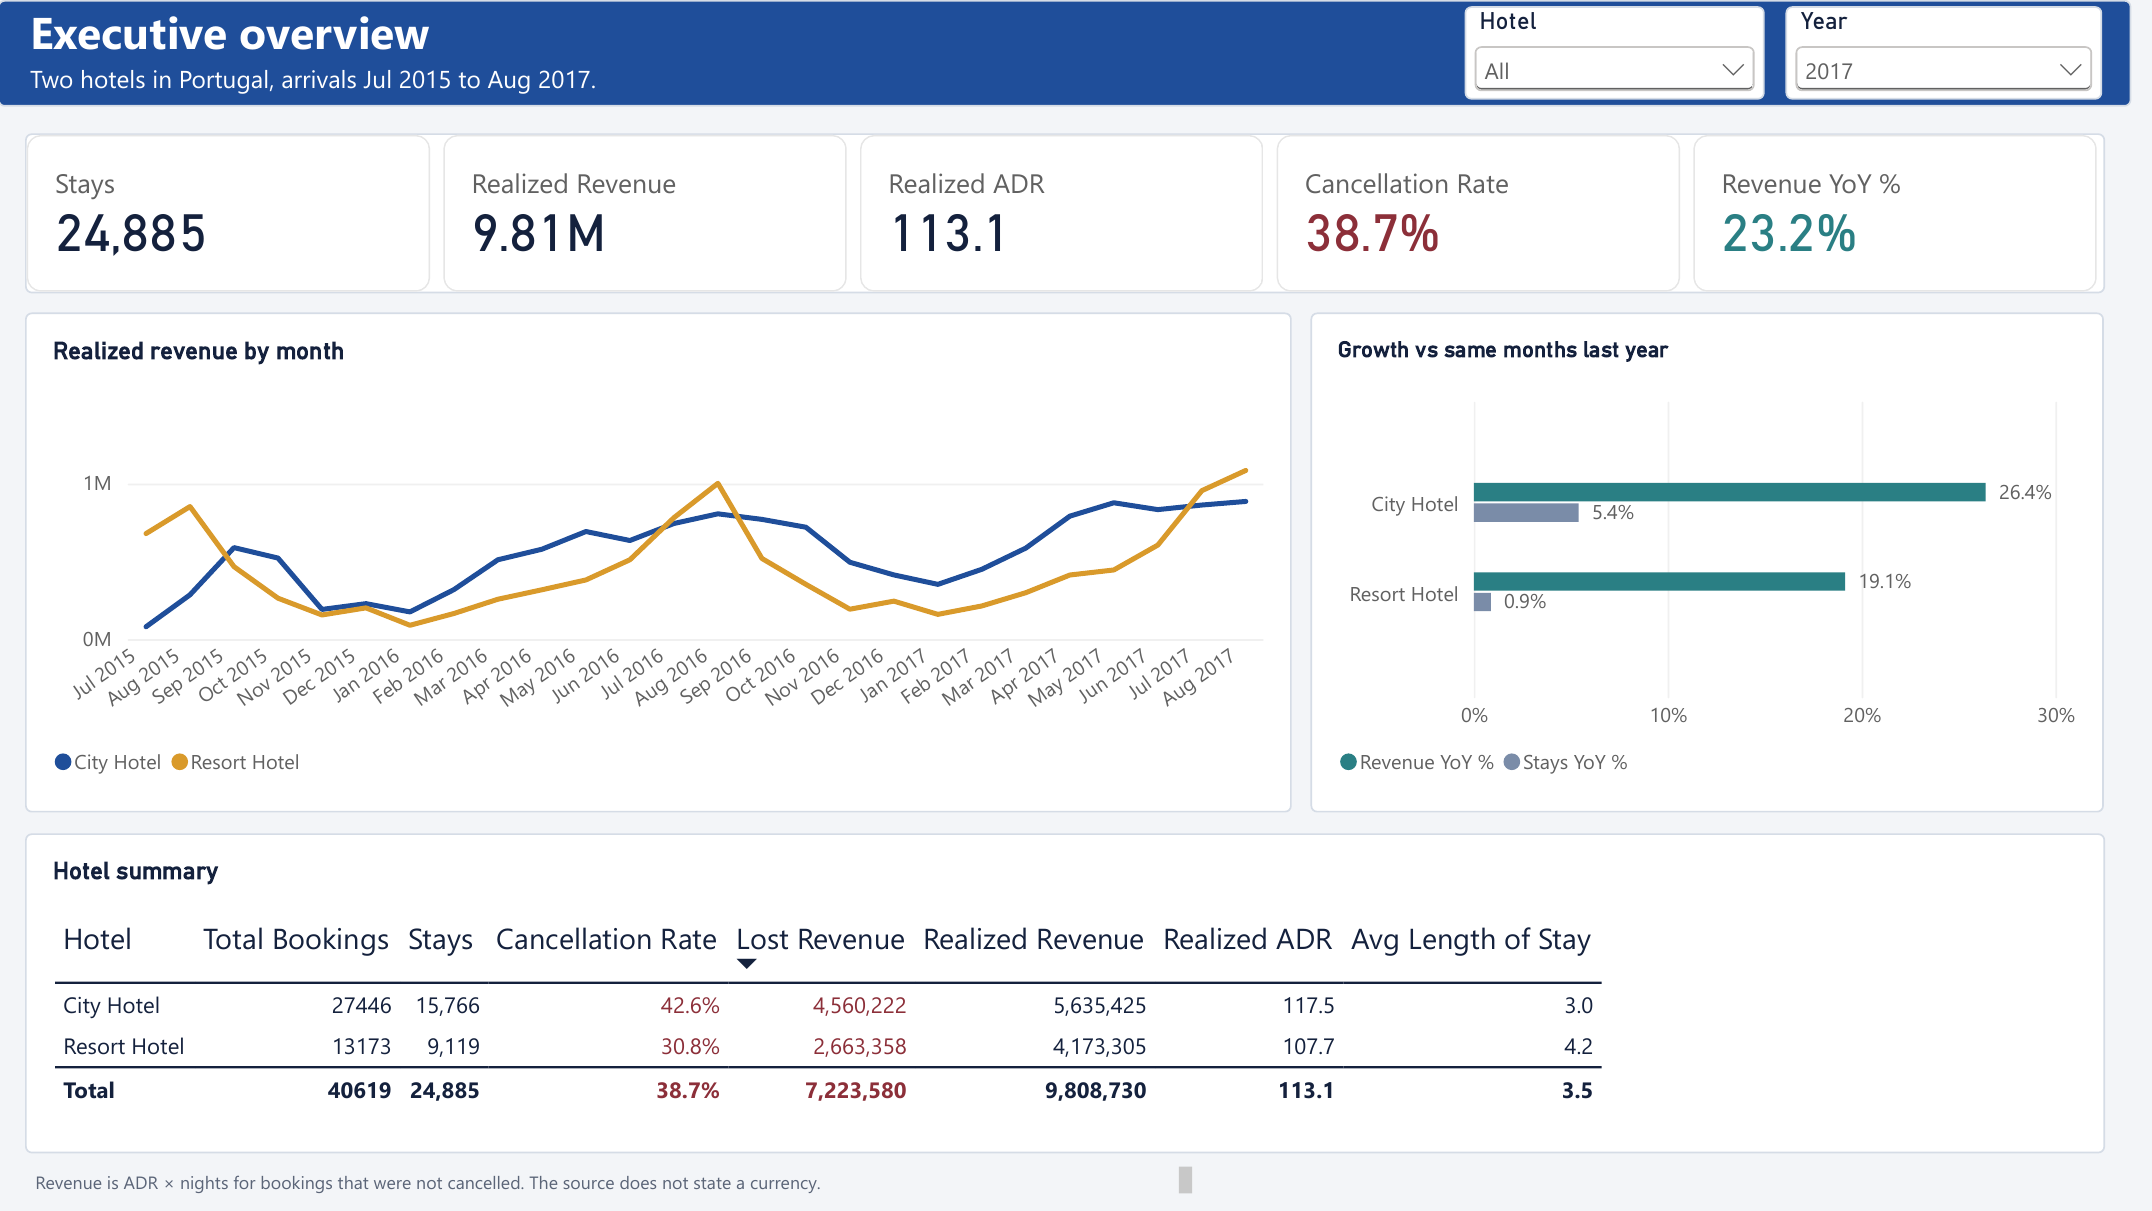

The dashboard page shown, as its layout file describes it:
{"tool":"powerbi","page":{"name":"Executive overview","canvas":[1280,720],"ordinal":0},"visuals":[{"type":"textbox","box":[0,0,1280,64],"z":0},{"type":"slicer","fields":{"Values":["Bookings.Hotel"]},"box":[880,4,180,56],"z":1000},{"type":"slicer","fields":{"Values":["Date.Year"]},"box":[1072,4,190,56],"z":2000},{"type":"cardVisual","fields":{"Data":["Bookings.Stays","Bookings.Realized Revenue","Bookings.Realized ADR","Bookings.Cancellation Rate","Bookings.Revenue YoY %"]},"box":[16,80,1248,96],"z":3000},{"type":"lineChart","title":"Realized revenue by month","fields":{"Category":["Date.Year Month"],"Series":["Bookings.Hotel"],"Y":["Bookings.Realized Revenue"]},"box":[16,188,760,300],"z":4000},{"type":"clusteredBarChart","title":"Growth vs same months last year","fields":{"Category":["Bookings.Hotel"],"Y":["Bookings.Revenue YoY %","Bookings.Stays YoY %"]},"box":[788,188,476,300],"z":5000},{"type":"tableEx","title":"Hotel summary","fields":{"Values":["Bookings.Hotel","Bookings.Total Bookings","Bookings.Stays","Bookings.Cancellation Rate","Bookings.Lost Revenue","Bookings.Realized Revenue","Bookings.Realized ADR","Bookings.Avg Length of Stay"]},"box":[16,500,1248,192],"z":6000},{"type":"textbox","box":[22,700,694,16],"z":7000}]}

Visuals, with their boxes in screenshot pixels (x1, y1, x2, y2), scaled from the page's 1280x720 canvas onto the 2152x1211 screenshot:
textbox: Rect(0, 0, 2151, 108)
slicer - Bookings.Hotel: Rect(1480, 7, 1782, 101)
slicer - Date.Year: Rect(1802, 7, 2122, 101)
cardVisual - Bookings.Stays x Bookings.Realized Revenue: Rect(27, 135, 2125, 296)
"Realized revenue by month" lineChart: Rect(27, 316, 1305, 821)
"Growth vs same months last year" clusteredBarChart: Rect(1325, 316, 2125, 821)
"Hotel summary" tableEx: Rect(27, 841, 2125, 1164)
textbox: Rect(37, 1177, 1204, 1204)
